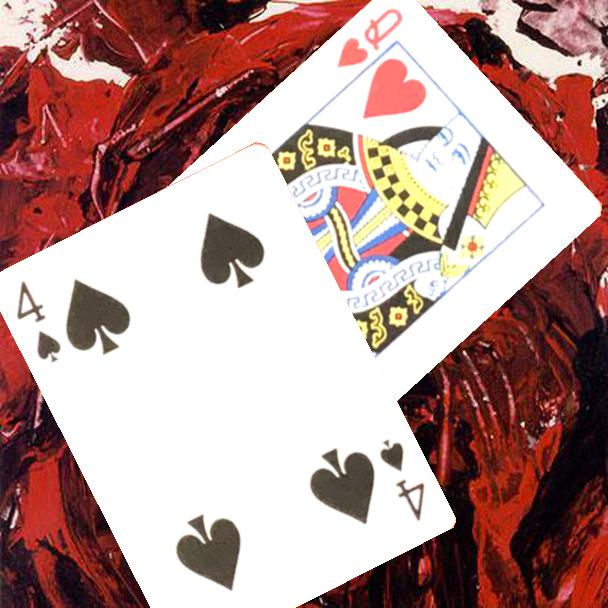h12: (333, 3, 406, 71)
s04: (375, 435, 428, 524), (12, 277, 64, 366)
